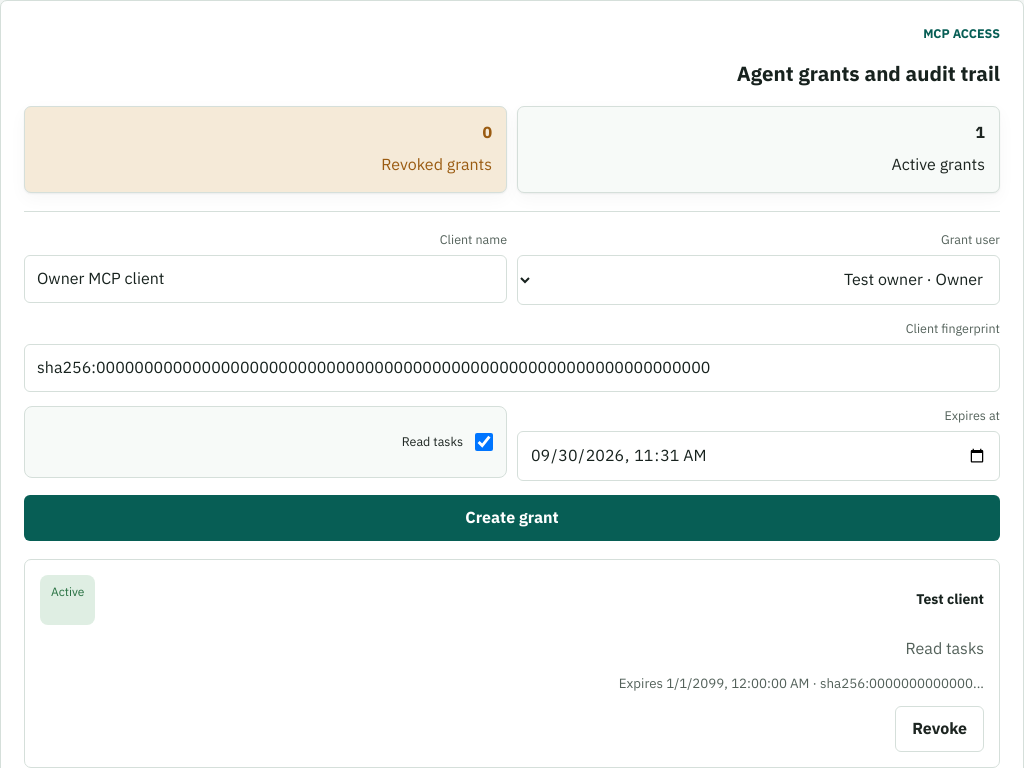
it: create reports the actual write result (success)
Step 1. Click the button "Create grant" → (512, 518), box [24,495,1000,541]
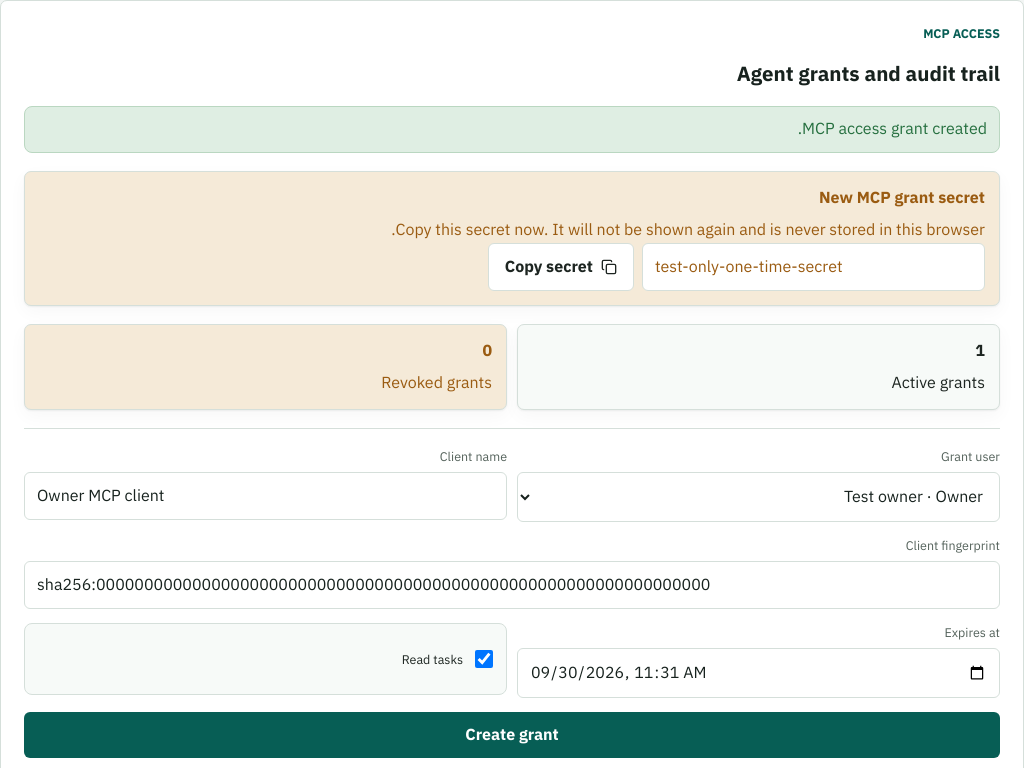
Check: the text "MCP access grant created." is shown, box [24,106,1000,153]
Check: the field named "New MCP grant secret" holds "test-only-one-time-secret", box [642,243,985,291]
